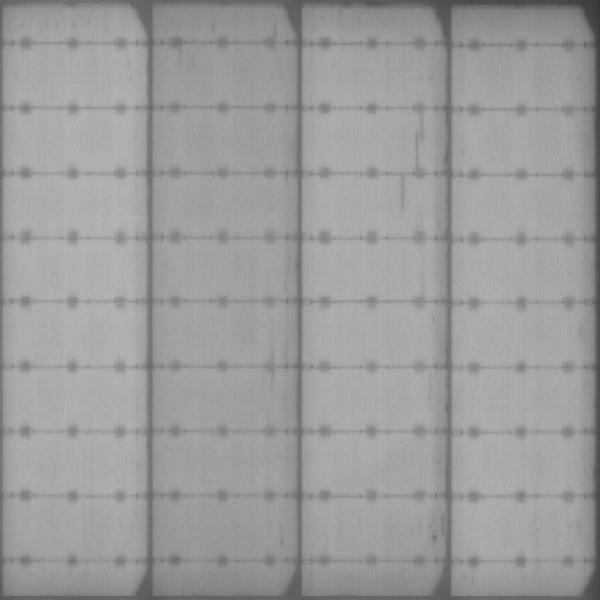scratch: (409, 109, 429, 175), (394, 174, 410, 215)
